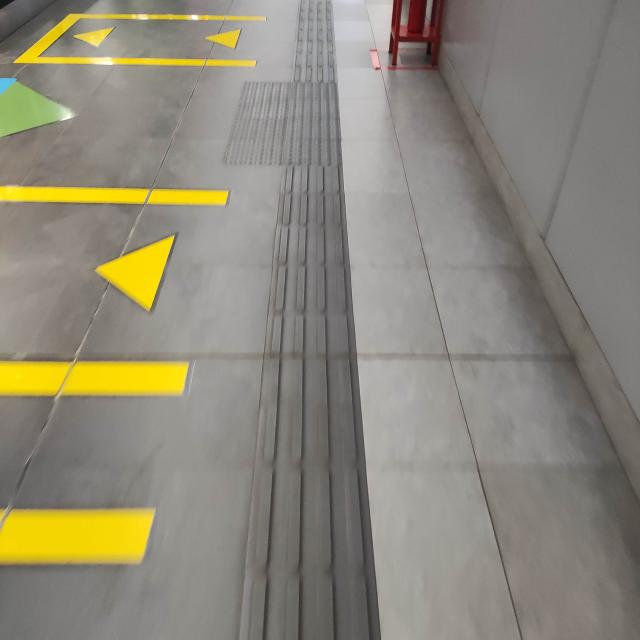lurus: (265, 9, 374, 640)
